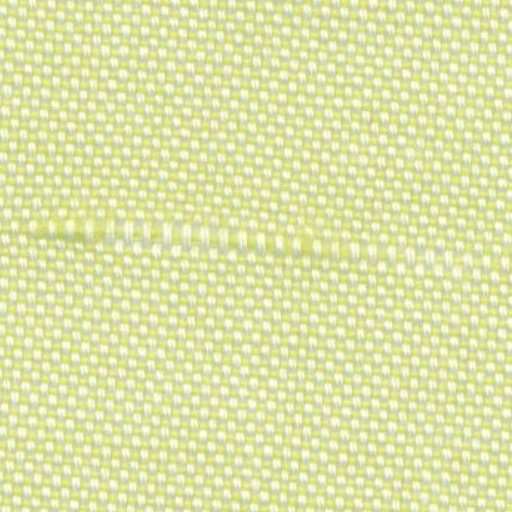DaiSha: (12, 202, 490, 298)
